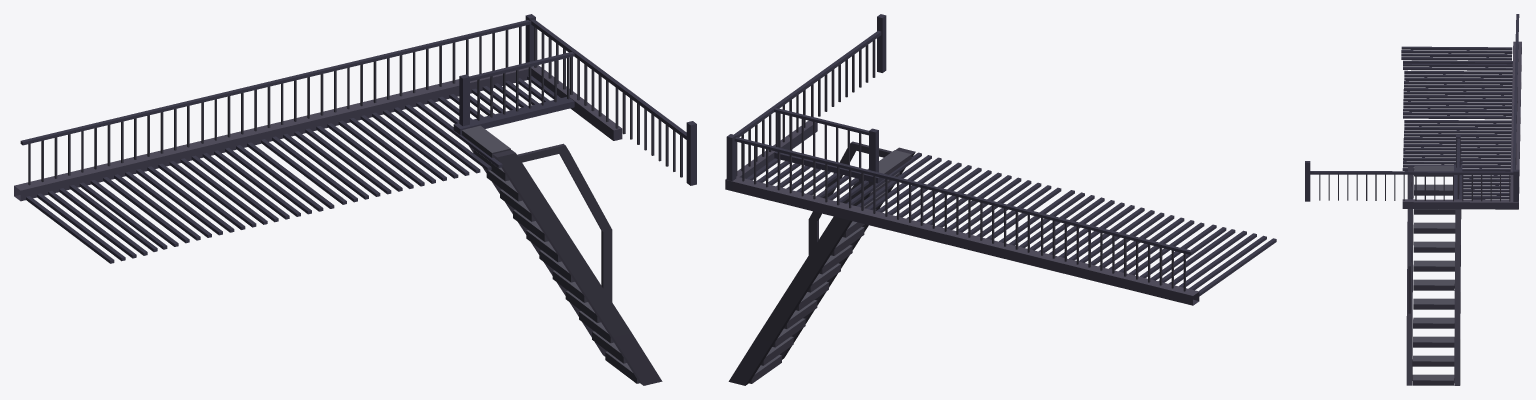
Rendered from CMF2Stairs01.fbx.
3 views of the same model, side by side, from view 1: azimuth 30°, elevation 25°; view 2: azimuth 150°, elevation 25°; view 3: azimuth 270°, elevation 25° (orthographic). The views are drawn at different scales.
Parts seen in each view (by area): view 1: BalconyBottom.023, BalconyBottom.022, StairSides.028, BalconyRailing.089, BalconyRailing.083, Stair.002, BalconyRailing.092; view 2: BalconyBottom.023, BalconyBottom.022, BalconyRailing.089, StairSides.028, BalconyRailing.083, Stair.002, BalconyRailing.092; view 3: BalconyBottom.023, Stair.002, StairSides.028, BalconyRailing.083, BalconyBottom.022, BalconyRailing.089, BalconyRailing.092.
Part boxes in pixels (bbox=[...]): BalconyBottom.023: bbox=[26, 76, 560, 263]; BalconyBottom.022: bbox=[14, 65, 622, 201]; StairSides.028: bbox=[468, 143, 662, 385]; BalconyRailing.089: bbox=[20, 20, 531, 185]; BalconyRailing.083: bbox=[525, 14, 696, 185]; Stair.002: bbox=[462, 125, 639, 383]; BalconyRailing.092: bbox=[453, 51, 574, 134]; BalconyBottom.023: bbox=[746, 152, 1276, 296]; BalconyBottom.022: bbox=[725, 120, 1199, 305]; BalconyRailing.089: bbox=[734, 137, 1193, 291]; StairSides.028: bbox=[728, 141, 915, 385]; BalconyRailing.083: bbox=[726, 14, 886, 181]; Stair.002: bbox=[749, 150, 911, 383]; BalconyRailing.092: bbox=[774, 108, 883, 183]; BalconyBottom.023: bbox=[1401, 46, 1512, 199]; Stair.002: bbox=[1412, 165, 1455, 385]; StairSides.028: bbox=[1406, 166, 1461, 385]; BalconyRailing.083: bbox=[1305, 161, 1518, 202]; BalconyBottom.022: bbox=[1402, 41, 1521, 209]; BalconyRailing.089: bbox=[1512, 14, 1519, 171]; BalconyRailing.092: bbox=[1454, 135, 1462, 199].
Bounding box in the file's own units: 2110 × 1180 × 1108.
